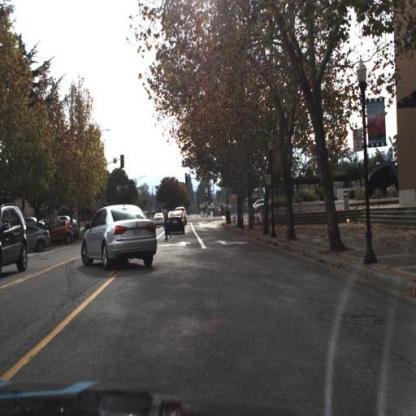car: (79, 196, 159, 277), (1, 205, 30, 276), (13, 221, 54, 258), (42, 217, 75, 249), (165, 208, 187, 237), (151, 210, 168, 231)
pedestrian: (158, 201, 176, 246)
trafficLight-Red: (184, 172, 190, 187), (185, 175, 189, 188)
